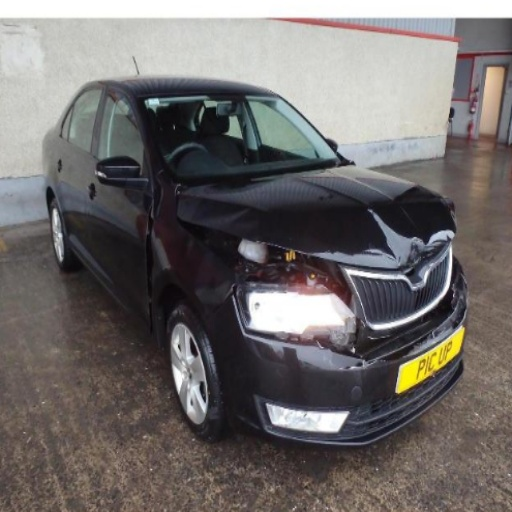dent: (315, 206, 455, 268), (174, 196, 267, 241), (396, 185, 445, 207)
